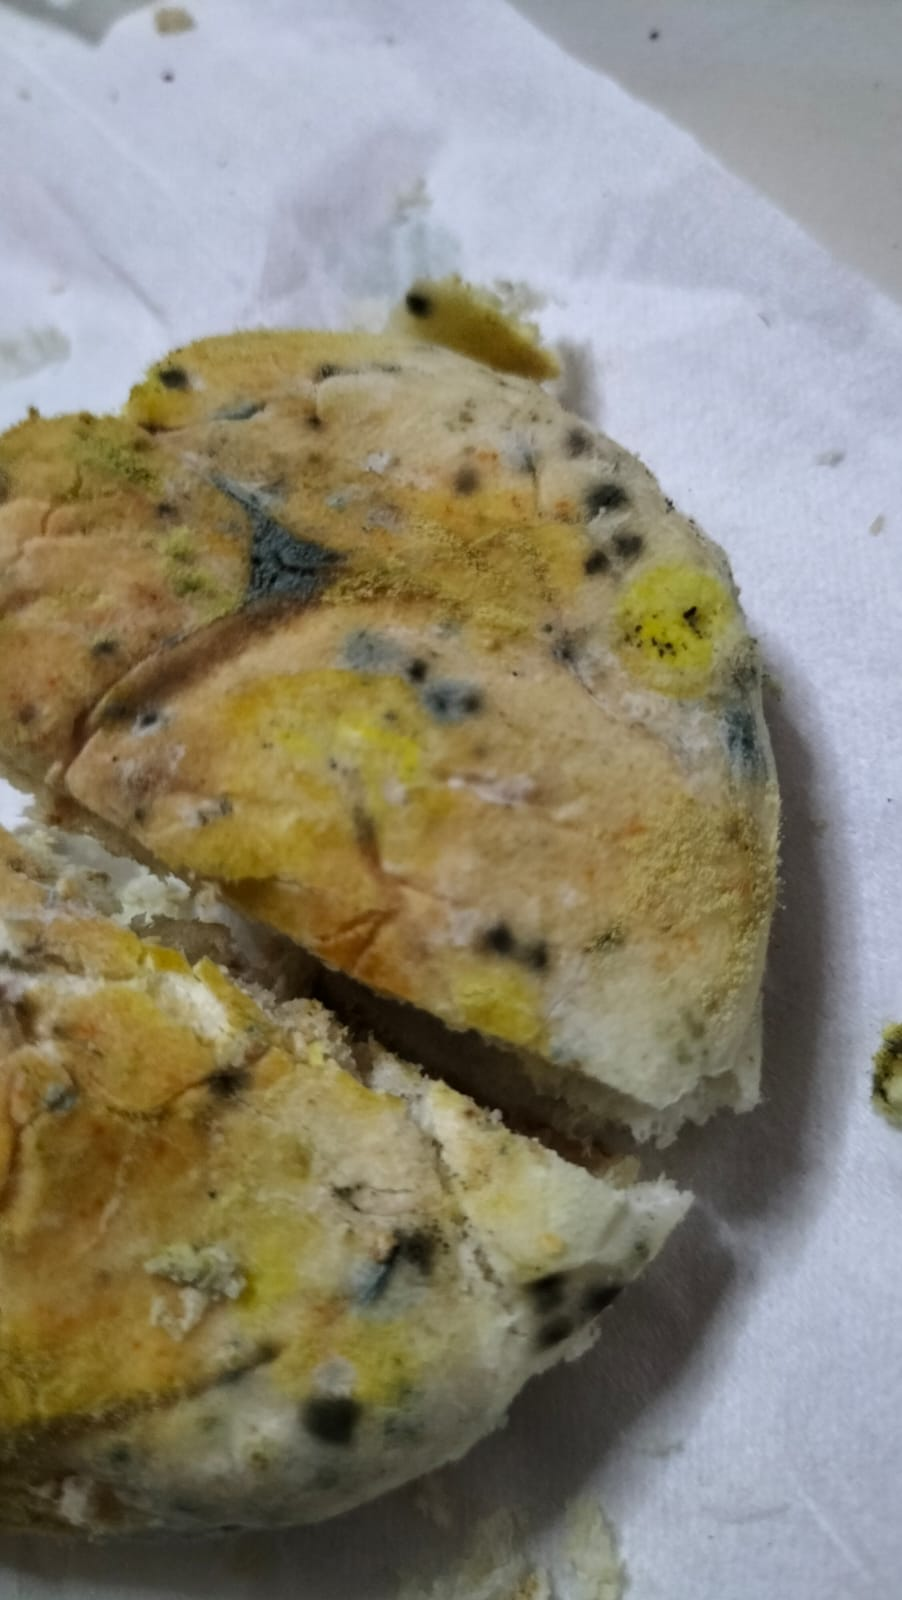mold_bread: (227, 485, 349, 624), (336, 629, 500, 719), (457, 907, 576, 987), (606, 593, 724, 673), (715, 699, 769, 774), (94, 699, 192, 736), (574, 531, 646, 580), (438, 458, 494, 518), (145, 356, 207, 407), (575, 481, 639, 516), (30, 1082, 80, 1126), (205, 1071, 260, 1108), (79, 631, 129, 670), (224, 398, 269, 432), (301, 410, 332, 433), (312, 365, 339, 382)
